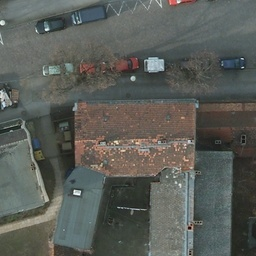car: (178, 54, 209, 75), (42, 59, 76, 78), (109, 53, 138, 74), (77, 58, 109, 76), (36, 17, 65, 34), (218, 55, 245, 72), (170, 0, 198, 6), (205, 0, 235, 1)
van: (71, 5, 107, 23)
